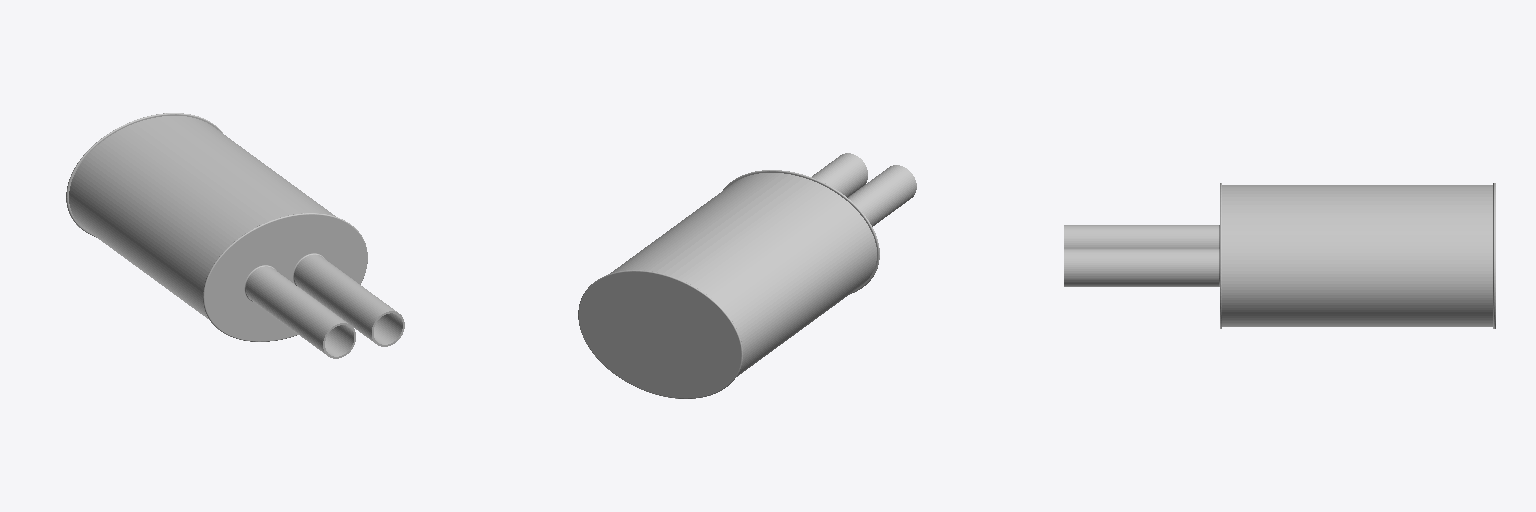
File: aRm_muffler.obj
3 views of the same model, side by side, from view 1: azimuth 30°, elevation 25°; view 2: azimuth 150°, elevation 25°; view 3: azimuth 270°, elevation 25° (orthographic).
Visible parts, largest first — view 1: Muffler_aRm; view 2: Muffler_aRm; view 3: Muffler_aRm.
Boxes of the visible parts, x1,y1,x2,y2 form: Muffler_aRm: [66, 113, 404, 358]; Muffler_aRm: [578, 153, 916, 398]; Muffler_aRm: [1064, 183, 1495, 328].
Size of the model in its own units: 52.27 by 37.14 by 119.